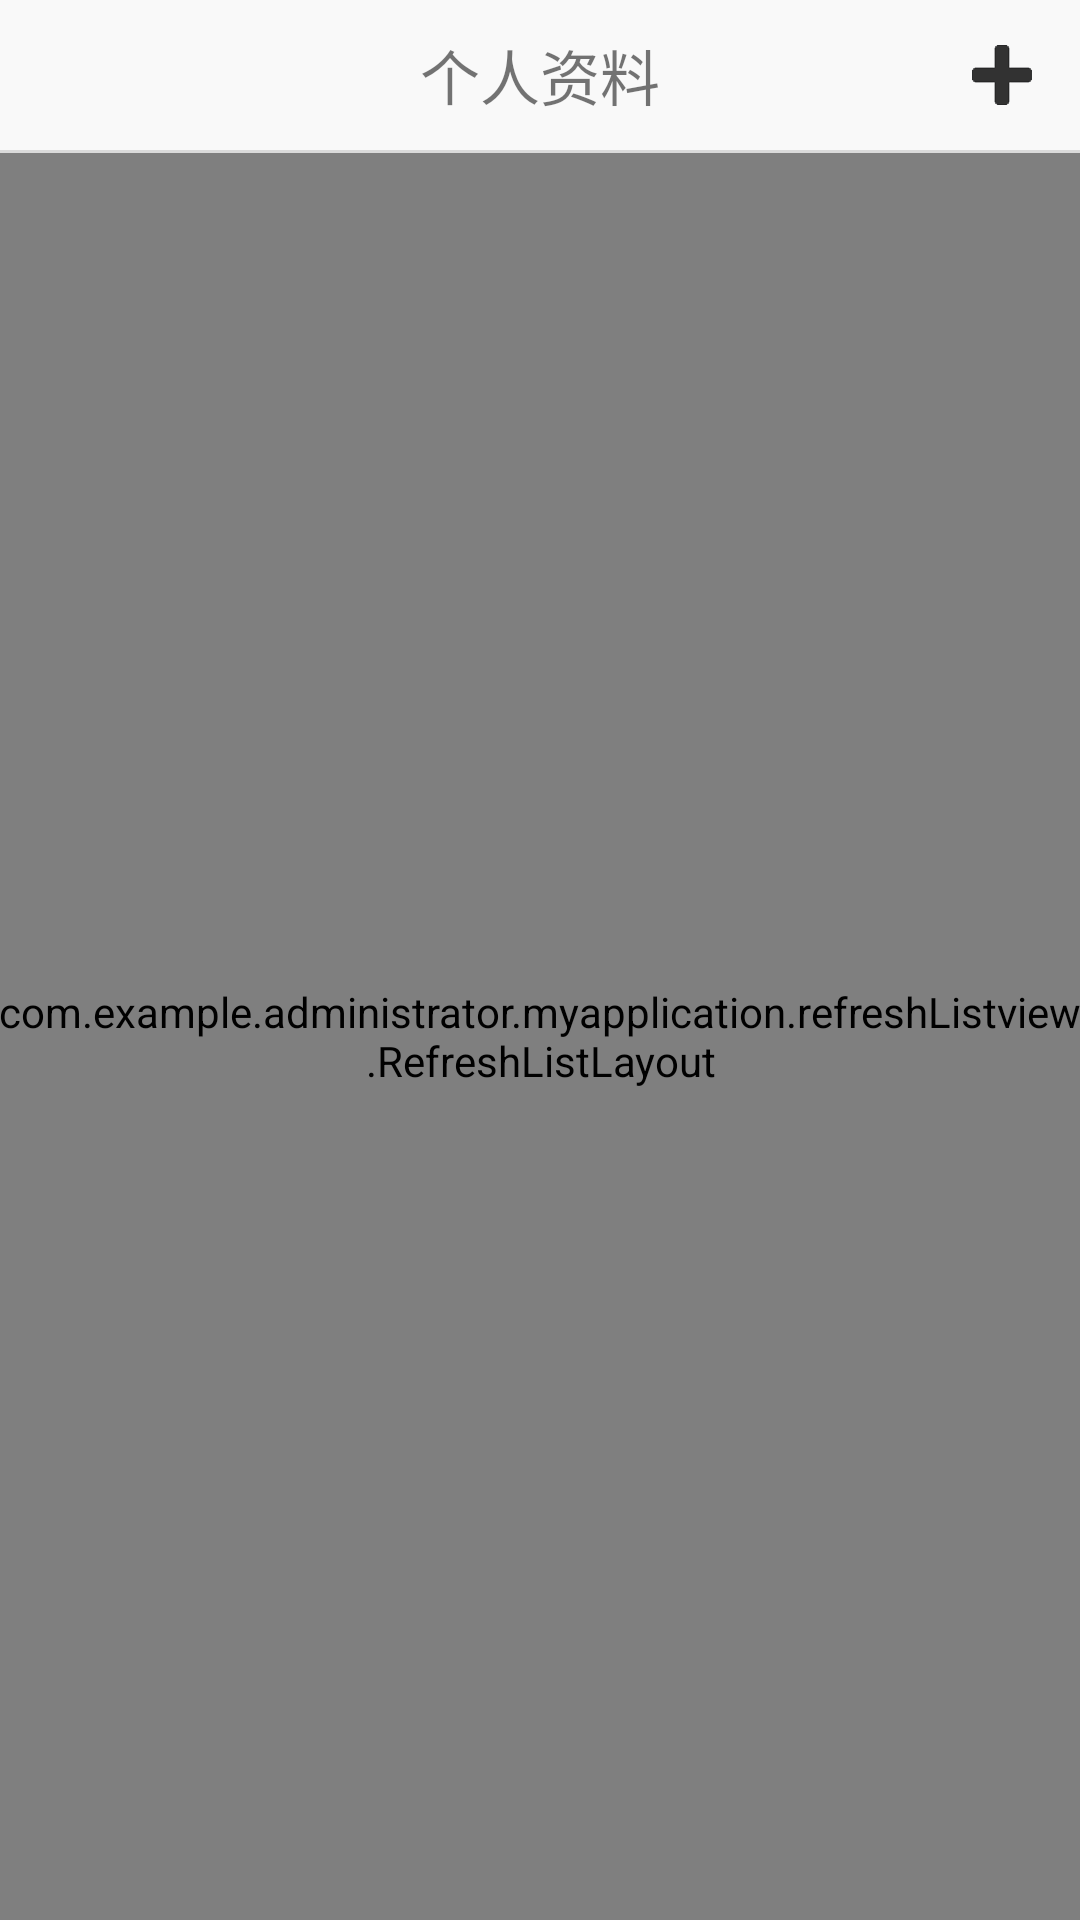

Where to tap for icons on this 1080px×1920px app screen, as point (x, y):
add: point (1002, 75)
